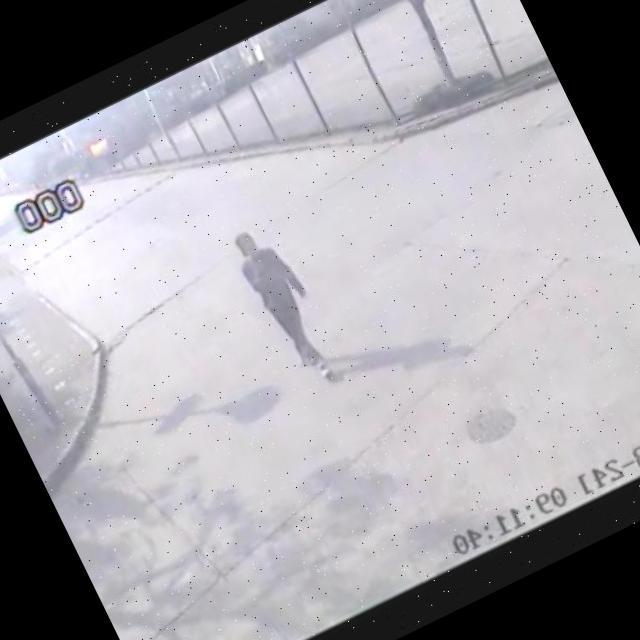person: (223, 215, 348, 396)
